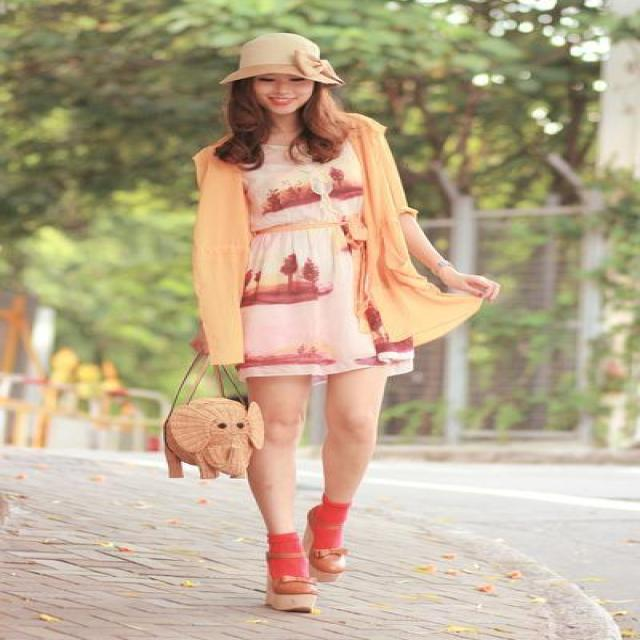bag: (149, 397, 262, 478)
dress: (224, 146, 414, 384)
hat: (222, 32, 341, 83)
jacket: (192, 115, 480, 365)
shoe: (282, 551, 341, 594)
